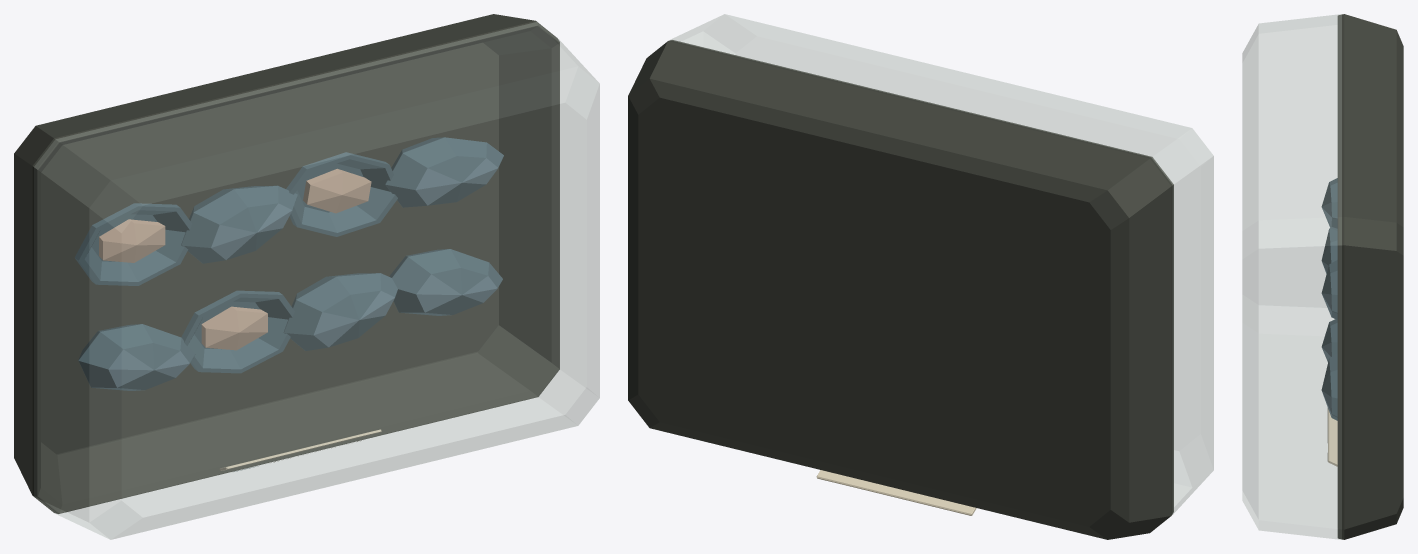
Rendered from mussels.glb.
3 views of the same model, side by side, from view 1: azimuth 30°, elevation 25°; view 2: azimuth 150°, elevation 25°; view 3: azimuth 270°, elevation 25° (orthographic). The views are drawn at different scales.
Parts seen in each view (by area): view 1: mussels; view 2: mussels; view 3: mussels.
Boxes of the visible parts, x1,y1,x2,y2 form: mussels: (14,14,599,539); mussels: (628,14,1213,539); mussels: (1242,14,1403,539).
Size of the model in its own units: 0.22 by 0.1549 by 0.068.
